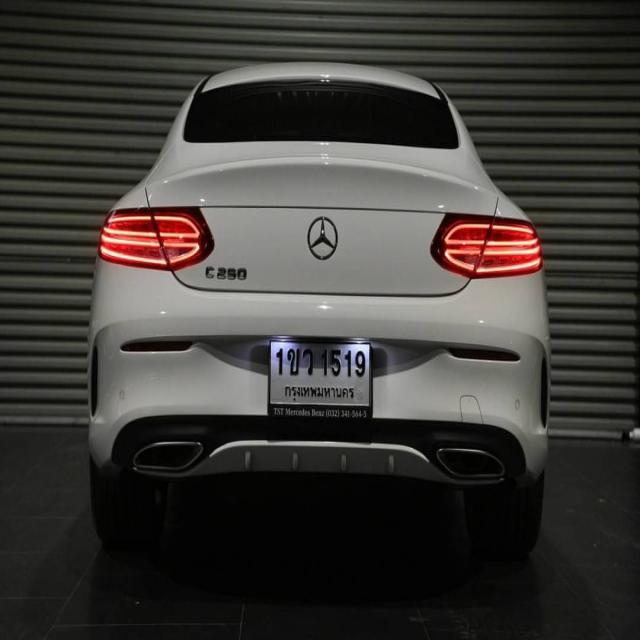car: (87, 60, 553, 561)
license_plate: (267, 339, 373, 420)
plate_number: (275, 347, 366, 378)
province: (284, 385, 355, 402)
